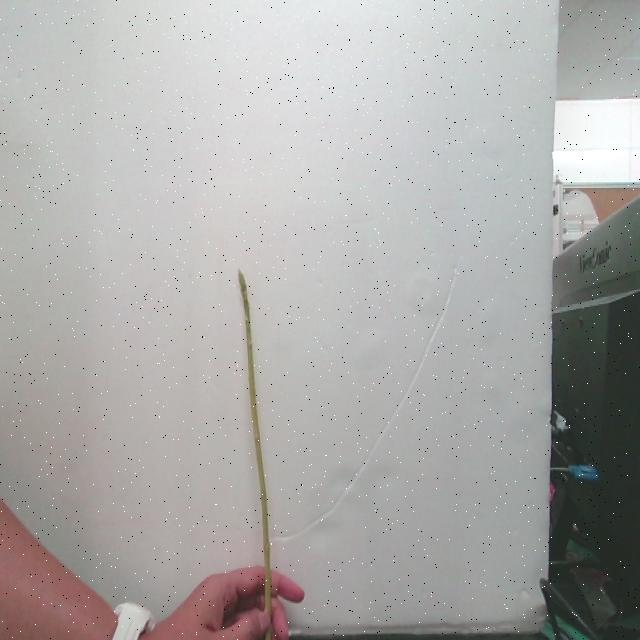aspargus: (240, 274, 274, 617)
